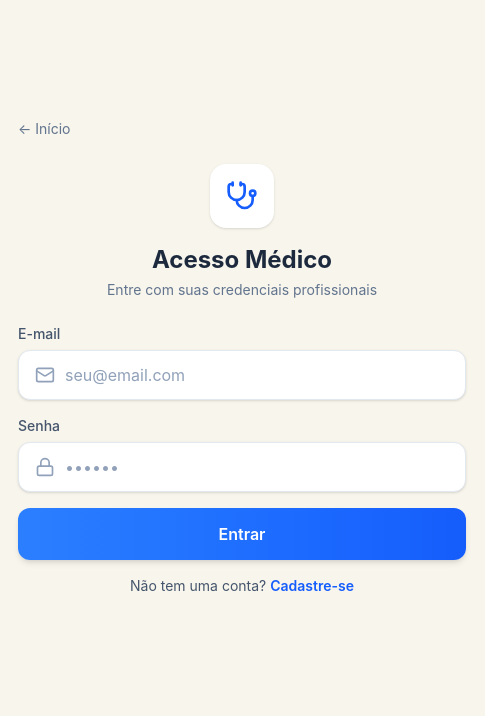
Test: login bem-sucedido navega para o destino guardado
Step 1. Type "medico@helptap.com" into the field labelled "E-mail" → {"x": 257, "y": 375}, box [65, 363, 449, 387]
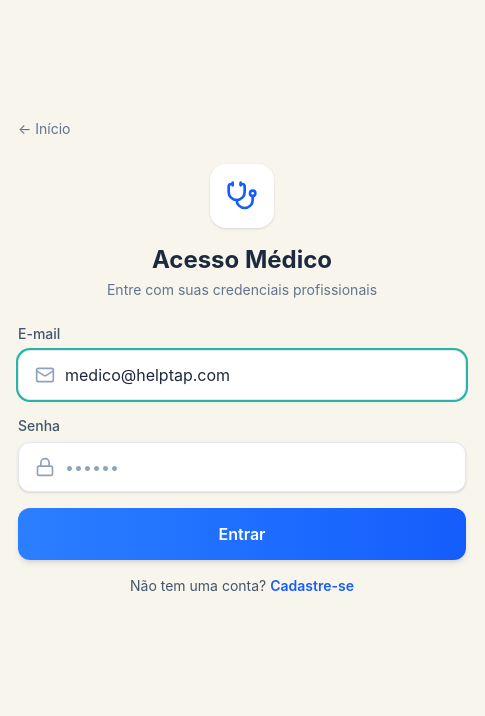
Step 2. Type "123456" into the password field labelled "Senha" → {"x": 257, "y": 467}, box [65, 455, 449, 479]
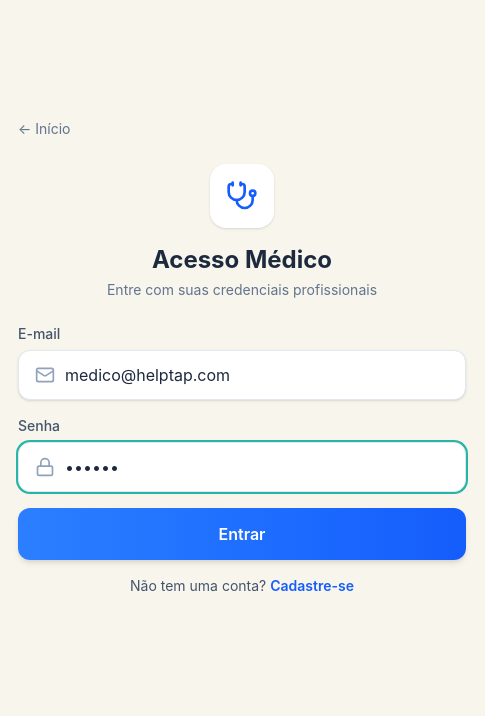
Step 3. Click the button "Entrar" → {"x": 242, "y": 534}, box [18, 508, 466, 560]
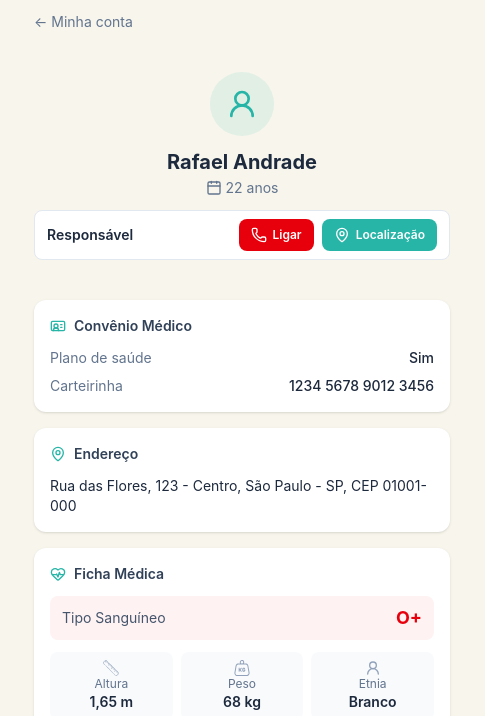
Now the heading "Rafael Andrade" is shown, box [167, 148, 317, 176]
